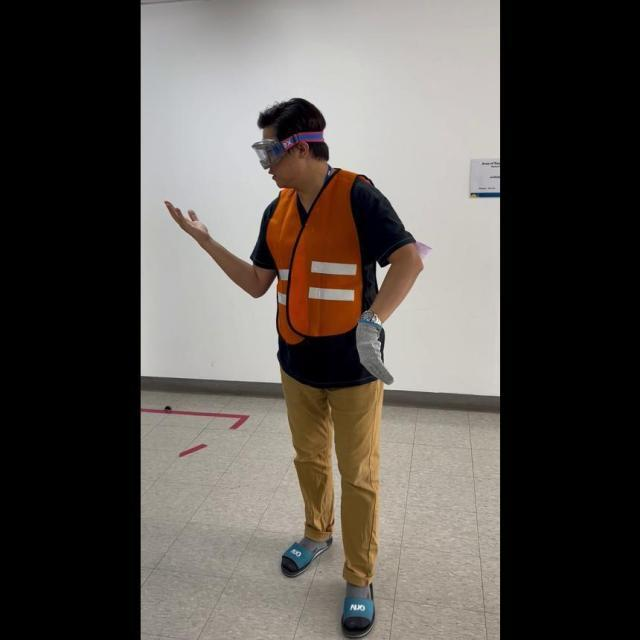bare_hand: (161, 196, 209, 248)
gloved_hand: (351, 311, 391, 385)
